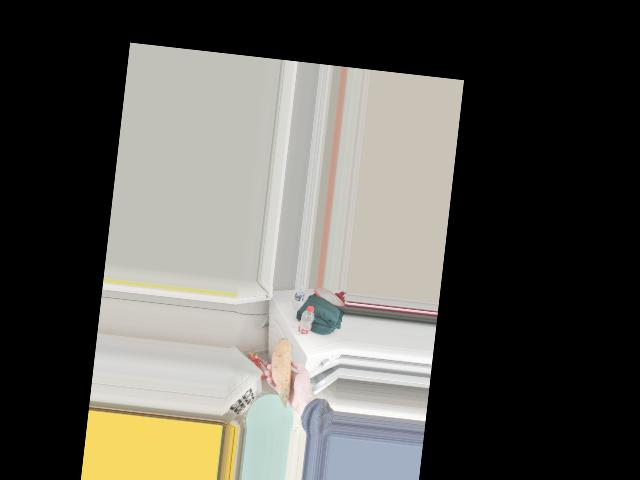sweet_potato: (266, 337, 295, 398)
